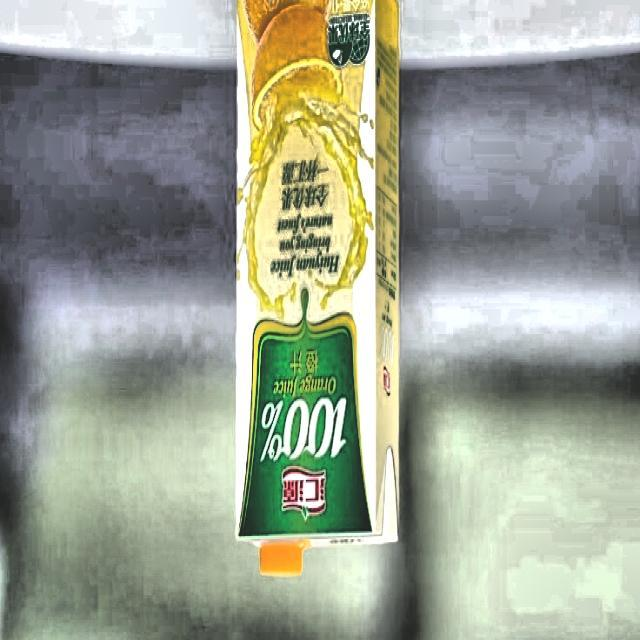cardboard: (235, 0, 402, 558)
